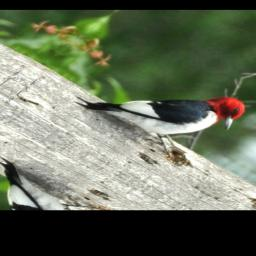Woodpecker: (74, 49, 256, 163)
